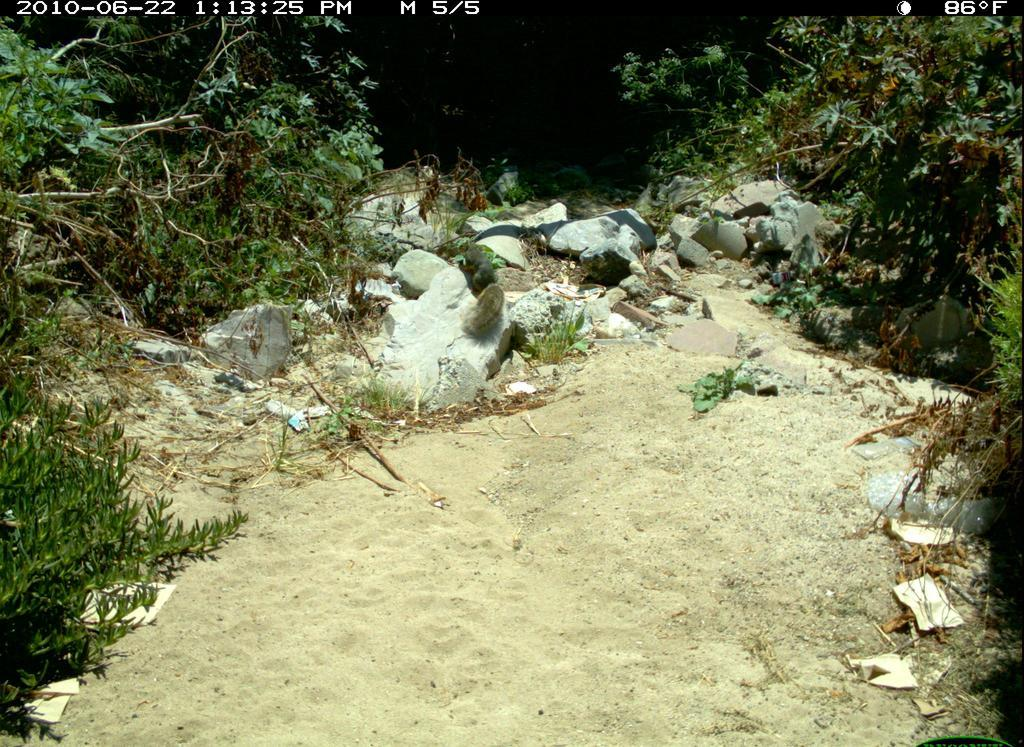squirrel: (456, 236, 513, 340)
